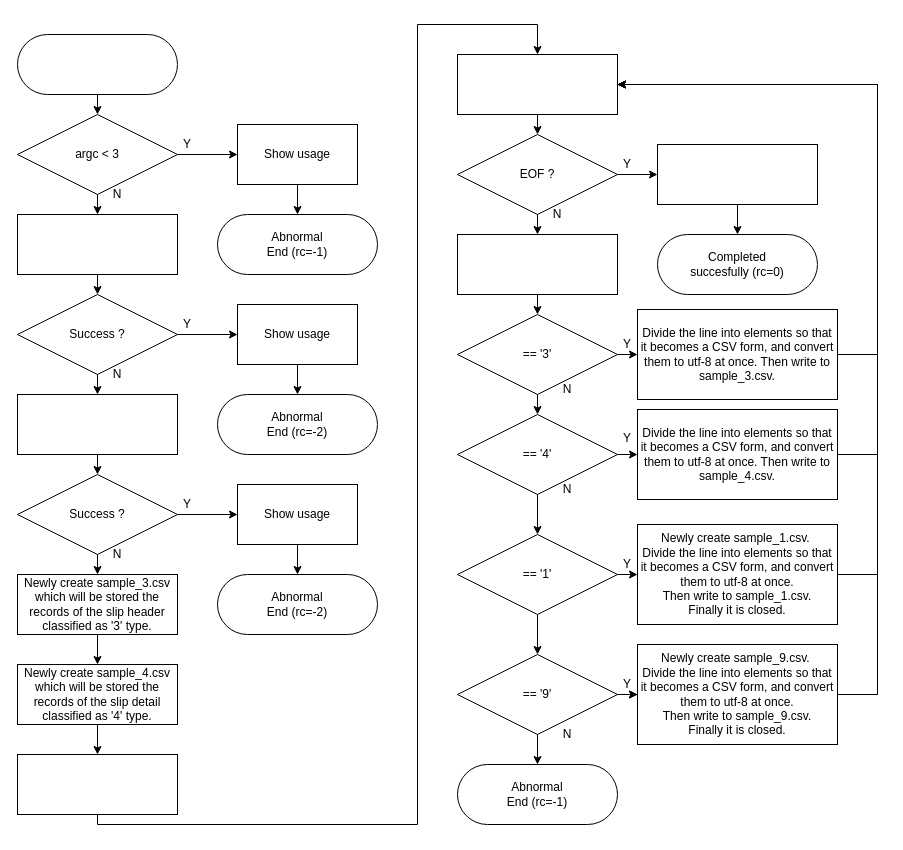
Some shapes in this 903 by 850 pixel diagram are drawn without their labels. Each missing label, with the centre of its shape:
"Attempt to check stat a directory where is specified in the arg[2]." belongs at [97,424].
"Attempt to open a file sample.dat where is specified in the arg[1]." belongs at [97,244].
"Conpare line[0] (a primary charactor of the line) with:" belongs at [537,264].
"Get a line from the sample.dat" belongs at [537,84].
"Show closing message with the stat and release working memories." belongs at [737,174].
"Show opening message and acquire working memories." belongs at [97,784].
"Start" belongs at [97,64].
